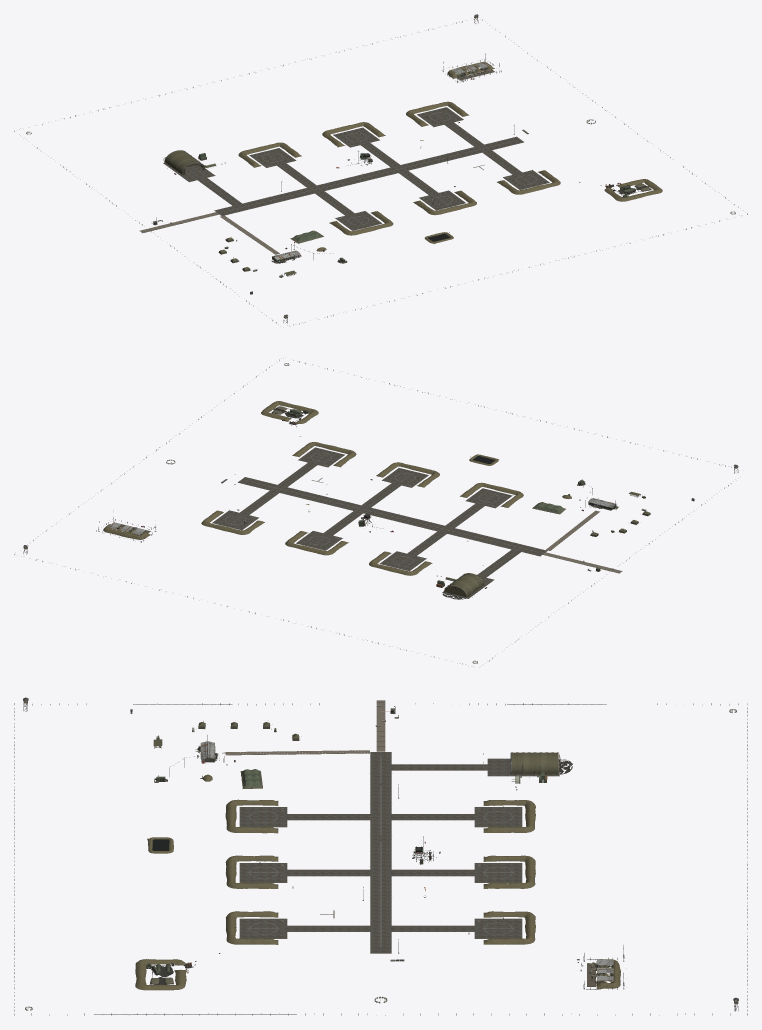
File: site_heli.glb
3 renders of one model, top to bottom at view 1: azimuth 30°, elevation 25°; view 2: azimuth 150°, elevation 25°; view 3: azimuth 270°, elevation 25°, orthographic. The views are drawn at different scales.
Parts seen in each view (by area): view 1: deco_pads|tile_pads, deco_extra|H_A, deco_pads|H_A, b_ammo|H_A, b_hangar|H_A, b_fuel_ruin|H_B; view 2: deco_pads|tile_pads, deco_extra|H_A, deco_pads|H_A, b_hangar|H_A, b_ammo|H_A, b_fuel_ruin|H_B; view 3: deco_pads|tile_pads, deco_extra|H_A, deco_pads|H_A, deco_site|H_A, b_hangar|H_A, b_ammo|H_A, b_fuel_ruin|H_B, b_fuel|H_A, deco_camp|H_A.
Boxes of the visible parts, left/top/right/bottom form: deco_pads|tile_pads: left=163, top=107, right=549, bottom=230; deco_extra|H_A: left=26, top=14, right=735, bottom=323; deco_pads|H_A: left=139, top=112, right=536, bottom=254; b_ammo|H_A: left=442, top=53, right=501, bottom=82; b_hangar|H_A: left=164, top=150, right=205, bottom=175; b_fuel_ruin|H_B: left=600, top=179, right=662, bottom=201; deco_pads|tile_pads: left=212, top=447, right=547, bottom=598; deco_extra|H_A: left=23, top=363, right=738, bottom=663; deco_pads|H_A: left=225, top=452, right=622, bottom=573; b_hangar|H_A: left=443, top=573, right=485, bottom=598; b_ammo|H_A: left=96, top=510, right=156, bottom=542; b_fuel_ruin|H_B: left=261, top=401, right=318, bottom=426; deco_pads|tile_pads: left=239, top=752, right=559, bottom=953; deco_extra|H_A: left=23, top=697, right=738, bottom=1011; deco_pads|H_A: left=225, top=700, right=514, bottom=946; deco_site|H_A: left=14, top=703, right=747, bottom=1015; b_hangar|H_A: left=510, top=752, right=558, bottom=777; b_ammo|H_A: left=577, top=945, right=624, bottom=989; b_fuel_ruin|H_B: left=135, top=959, right=196, bottom=990; b_fuel|H_A: left=135, top=959, right=191, bottom=990; deco_camp|H_A: left=192, top=721, right=276, bottom=788.
Bounding box in the file's own units: 508 × 19.36 × 500.
Materials: 23 (17 with a texture image).
